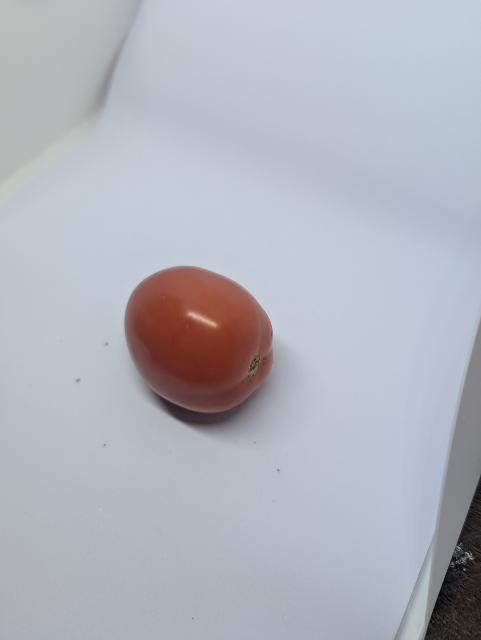red: (122, 264, 278, 415)
